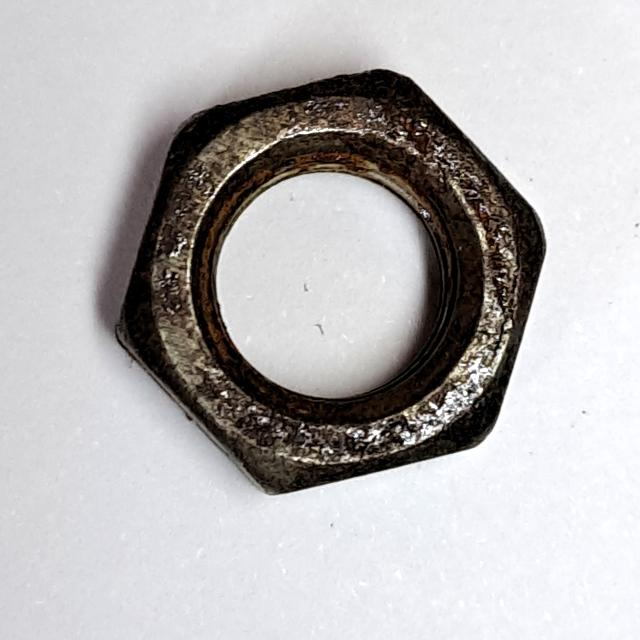Rust: (100, 57, 555, 511)
